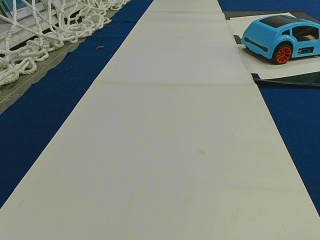car: (241, 15, 319, 63)
